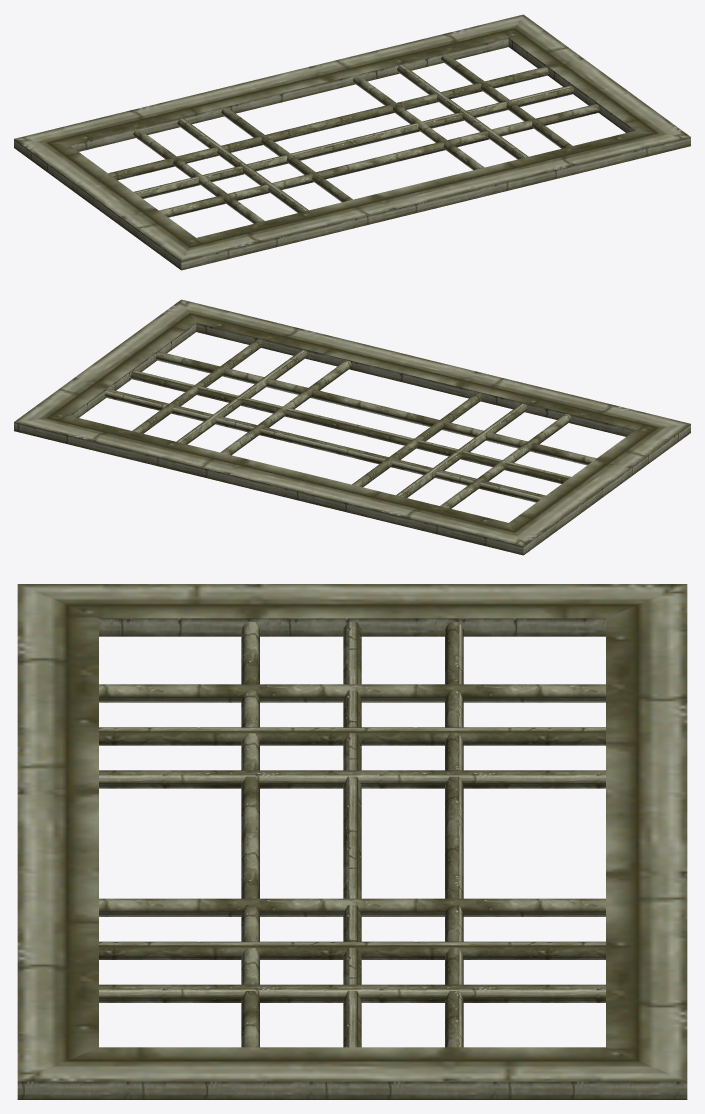
Rendered from floor-grid-02.fbx.
3 renders of one model, top to bottom at view 1: azimuth 30°, elevation 25°; view 2: azimuth 150°, elevation 25°; view 3: azimuth 270°, elevation 25°, orthographic. The views are drawn at different scales.
Visible parts, largest first — view 1: Cube.257; view 2: Cube.257; view 3: Cube.257.
Part boxes in pixels (left/top/right/bottom): Cube.257: left=14, top=14, right=690, bottom=270; Cube.257: left=14, top=299, right=690, bottom=555; Cube.257: left=17, top=584, right=687, bottom=1099.
Size of the model in its own units: 2.32 by 0.0398 by 1.32.
